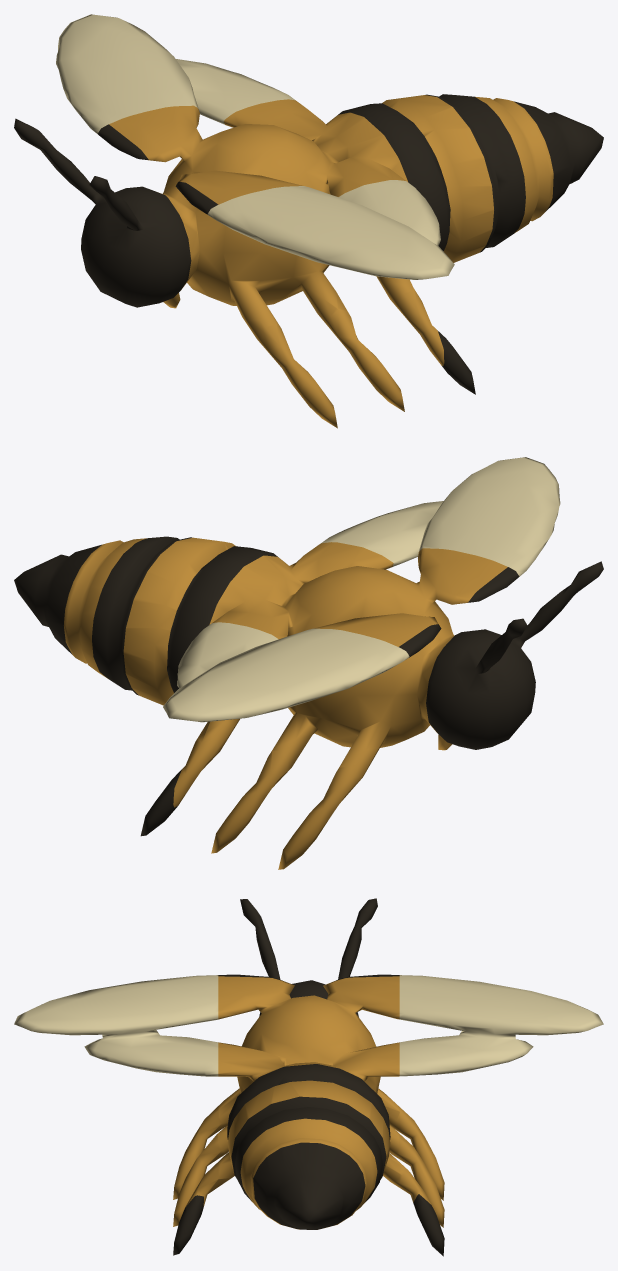
Rendered from NEW_RECOVERY_016_LOD1.glb.
3 renders of one model, top to bottom at view 1: azimuth 30°, elevation 25°; view 2: azimuth 150°, elevation 25°; view 3: azimuth 270°, elevation 25°, orthographic. The views are drawn at different scales.
Visible parts, largest first — view 1: Bee_solid; view 2: Bee_solid; view 3: Bee_solid.
Boxes of the visible parts, x1,y1,x2,y2 form: Bee_solid: [14, 14, 603, 428]; Bee_solid: [14, 457, 603, 869]; Bee_solid: [14, 898, 603, 1256].
Size of the model in its own units: 2.96 by 1.38 by 3.32.
